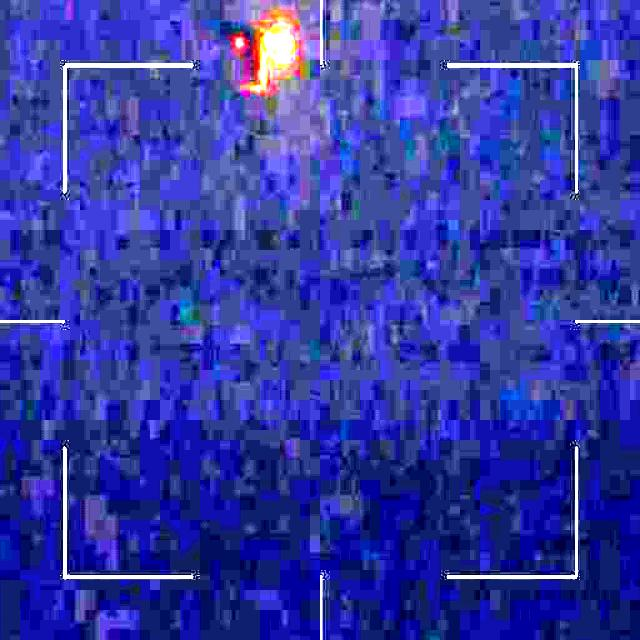bird: (220, 11, 295, 102)
